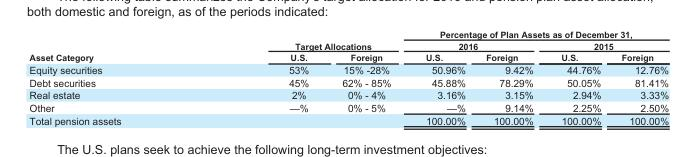table: (28, 29, 668, 125)
table column: (28, 29, 204, 125), (204, 29, 324, 125), (324, 29, 407, 125), (475, 29, 546, 125), (407, 29, 475, 125), (546, 29, 610, 125), (610, 29, 668, 125)
table column header: (28, 29, 668, 63)
table row: (28, 63, 668, 76), (28, 88, 668, 101), (28, 39, 668, 51), (28, 51, 668, 63), (28, 76, 668, 88), (28, 101, 668, 113), (28, 113, 668, 125), (28, 29, 668, 39)
table spanning cell: (28, 29, 204, 63), (204, 29, 407, 51), (407, 29, 668, 39), (407, 39, 546, 51), (546, 39, 668, 51)
